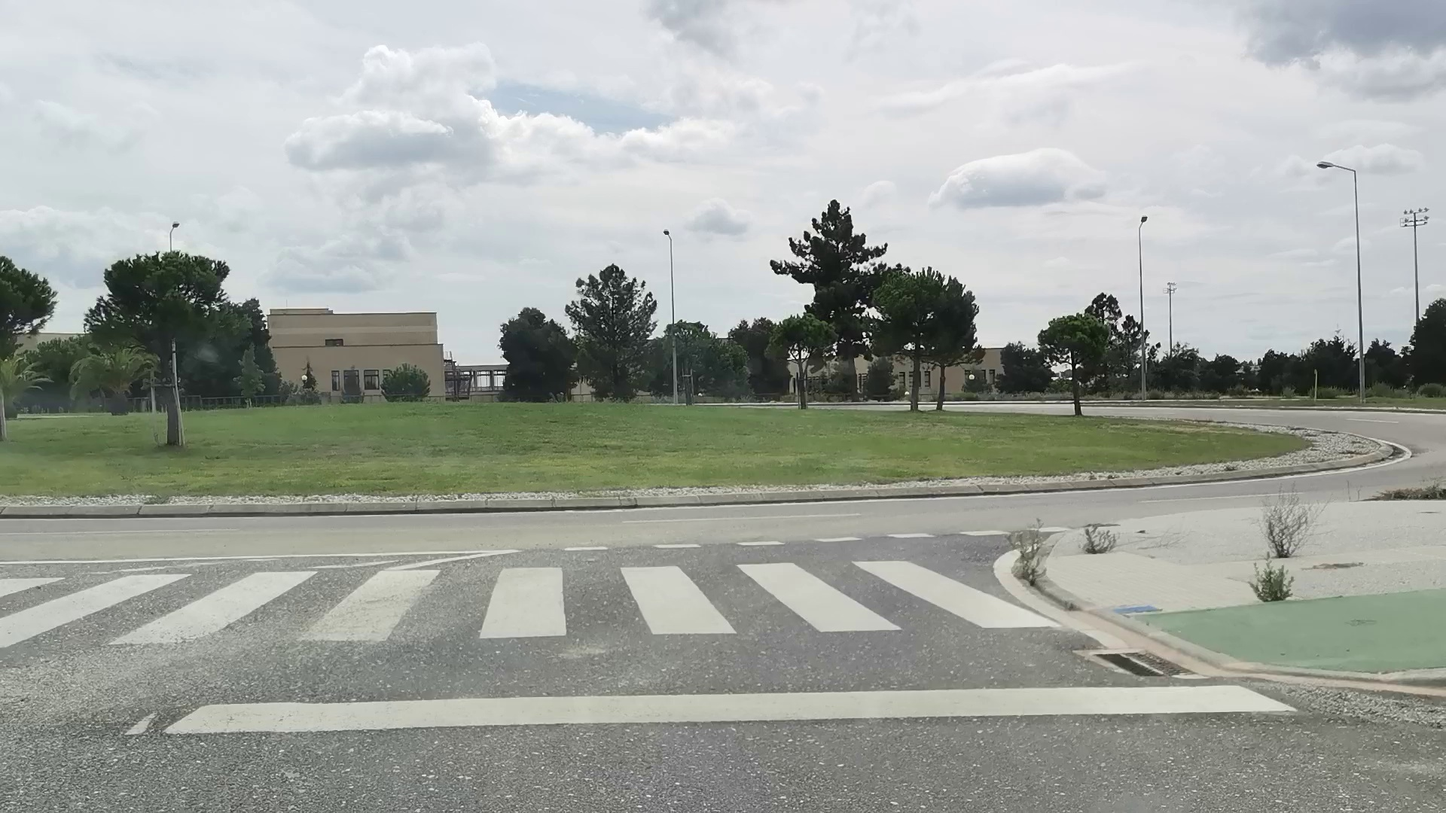Stairs: (0, 562, 1074, 649)
